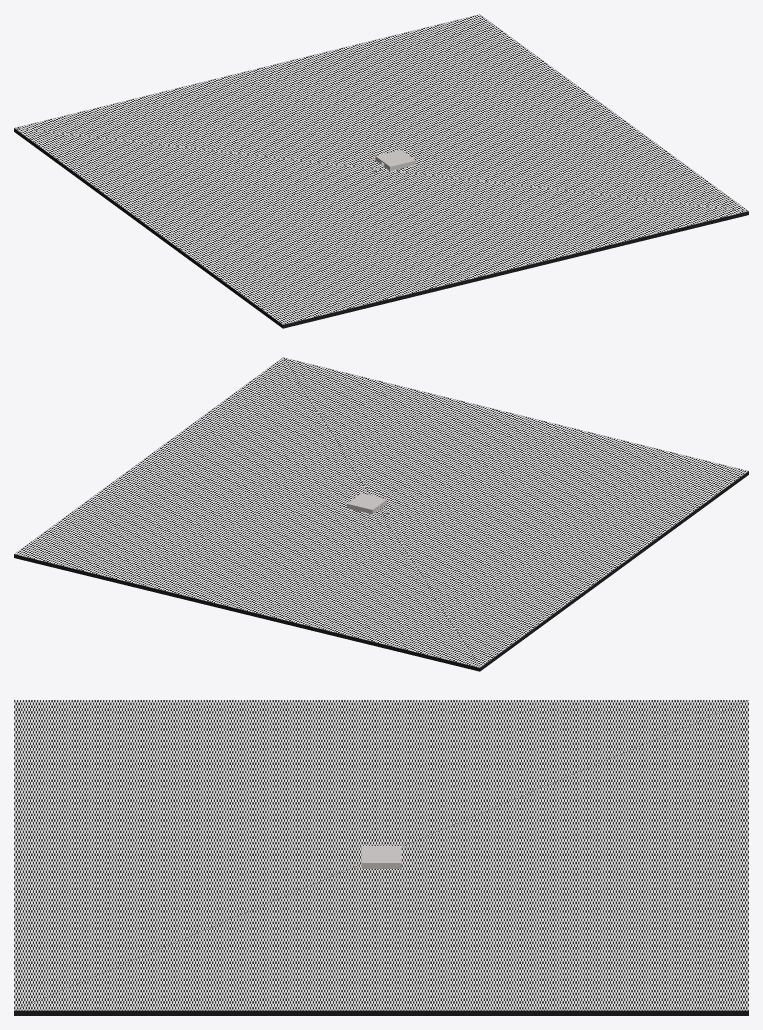
Rendered from estructura.obj.
The picture shows the model from 3 angles, top to bottom: view 1: azimuth 30°, elevation 25°; view 2: azimuth 150°, elevation 25°; view 3: azimuth 270°, elevation 25°; orthographic projection. The views are drawn at different scales.
Visible parts, largest first — view 1: Baseplate2, Baseplate1; view 2: Baseplate2, Baseplate1; view 3: Baseplate2, Baseplate1, GreyWall6.
Boxes of the visible parts, <box> form: Baseplate2: <box>14,14,748,324</box>; Baseplate1: <box>14,128,748,328</box>; Baseplate2: <box>14,357,748,667</box>; Baseplate1: <box>14,471,748,671</box>; Baseplate2: <box>14,700,748,1010</box>; Baseplate1: <box>14,1010,748,1015</box>; GreyWall6: <box>362,846,401,864</box>.
Bounding box in the file's own units: 2048 × 59.23 × 2048.
Materials: 10 (7 with a texture image).
